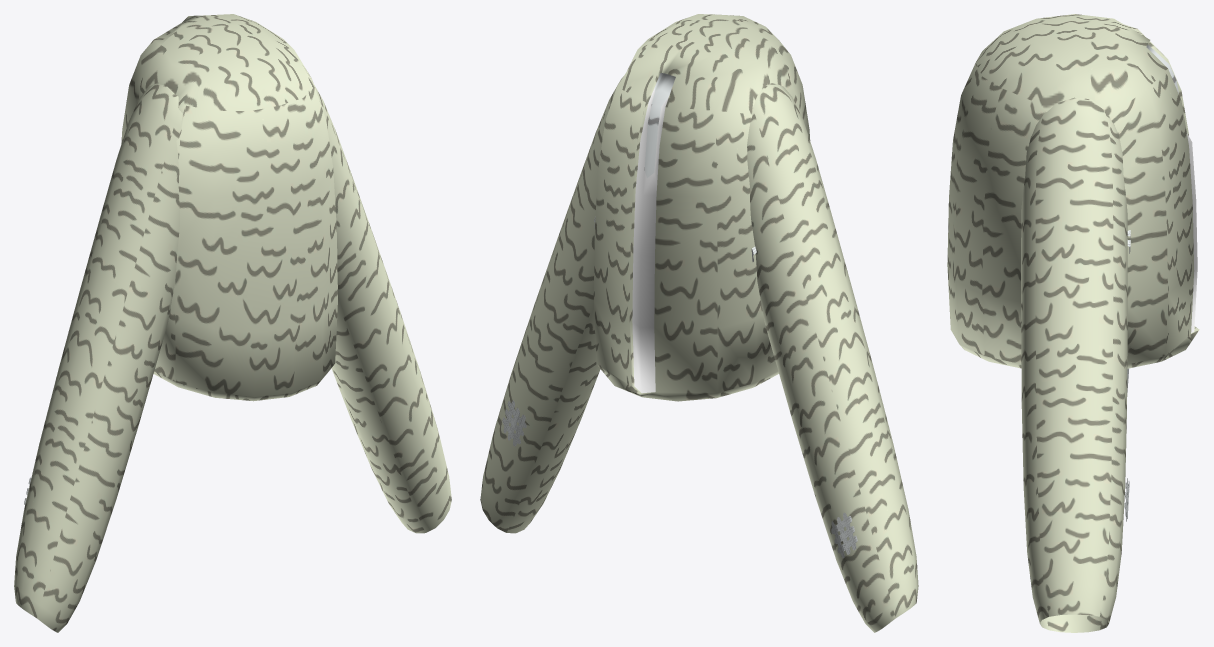
Rendered from item-explorer-shirt.glb.
3 renders of one model, left to right at view 1: azimuth 30°, elevation 25°; view 2: azimuth 150°, elevation 25°; view 3: azimuth 270°, elevation 25°, orthographic. The views are drawn at different scales.
Bounding box in the file's own units: 0.00381 × 0.00483 × 0.00205.
3 materials, 2 textured.
